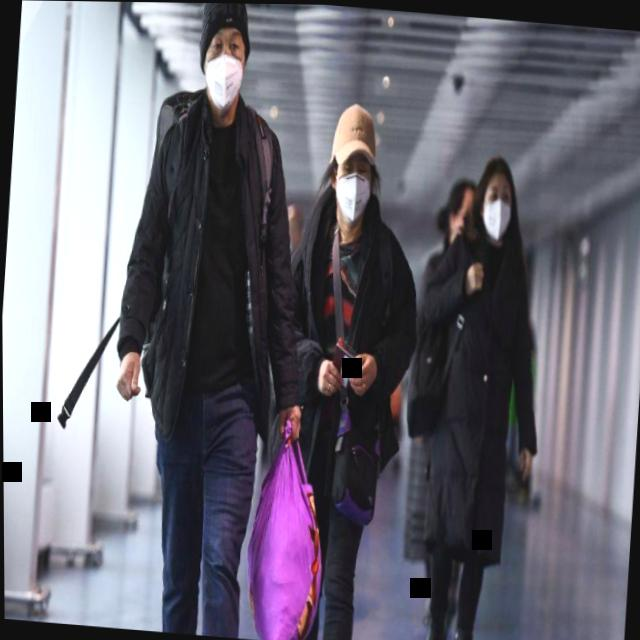Mask: (321, 99, 383, 236), (188, 2, 257, 117), (472, 149, 518, 249)
